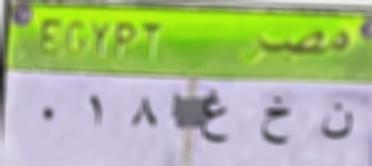0: (35, 96, 62, 137)
1: (85, 88, 108, 134)
8: (122, 92, 162, 136)
ghayn: (199, 85, 232, 154)
khaa: (258, 92, 295, 146)
noon: (318, 97, 354, 146)
